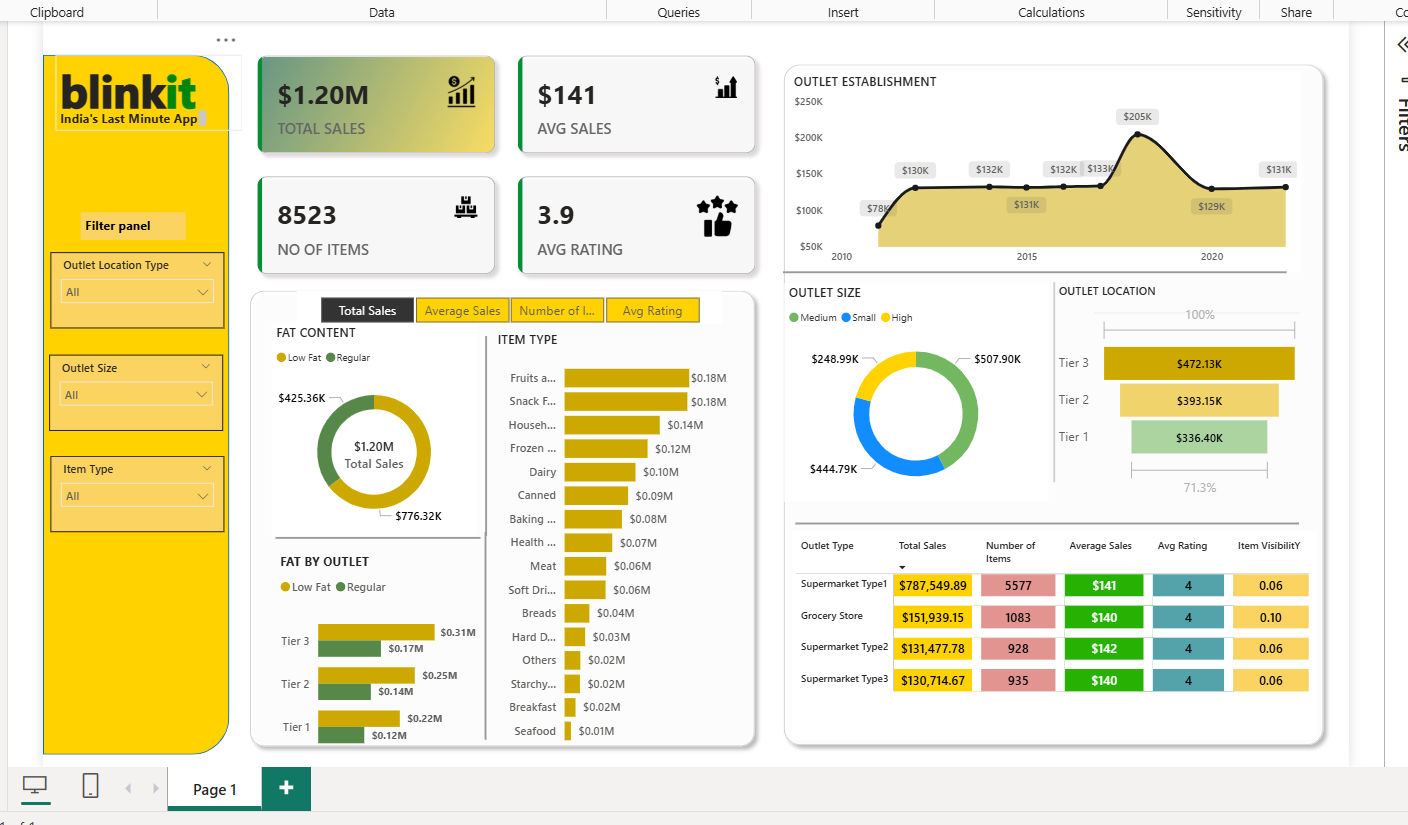

The page's visual inventory and layout, read from the dashboard file:
{"tool":"powerbi","page":{"name":"Page 1","canvas":[1400,800],"ordinal":0},"visuals":[{"type":"shape","box":[0,36.2,199.7,750.7],"z":0},{"type":"textbox","box":[13.4,36.2,199.7,81.8],"z":1000},{"type":"textbox","box":[13.4,91.2,166.2,26.8],"z":2000},{"type":"cardVisual","fields":{"Data":["BlinkIT Grocery Data.Total Sales","BlinkIT Grocery Data.Average Sales","BlinkIT Grocery Data.Number of Items","BlinkIT Grocery Data.Avg Rating"]},"box":[213.1,20.1,569.7,269.4],"z":3000},{"type":"shape","box":[213.1,280.2,559,506.7],"z":4000},{"type":"donutChart","title":"FAT CONTENT","fields":{"Y":["BlinkIT Grocery Data.Total Sales"],"Category":["BlinkIT Grocery Data.Item Fat Content"]},"box":[245.3,324.4,219.8,230.6],"z":5000},{"type":"slicer","fields":{"Values":["Metrics.Metrics"]},"box":[272.1,289.5,455.8,34.9],"z":6000},{"type":"cardVisual","fields":{"Data":["BlinkIT Grocery Data.Total Sales"]},"box":[297.6,430.3,115.3,65.7],"z":7000},{"type":"clusteredBarChart","title":"FAT  BY OUTLET","fields":{"Y":["BlinkIT Grocery Data.Total Sales"],"Category":["BlinkIT Grocery Data.Outlet Location Type"],"Series":["BlinkIT Grocery Data.Item Fat Content"]},"box":[249.3,569.7,219.8,230.6],"z":8000},{"type":"shape","box":[469.2,337.8,12.1,214.5],"z":9000},{"type":"shape","box":[1127.4,307,219.8,12.1],"z":10000},{"type":"shape","box":[466.5,548.3,16.1,222.5],"z":11000},{"type":"barChart","title":"ITEM TYPE","fields":{"Y":["BlinkIT Grocery Data.Total Sales"],"Category":["BlinkIT Grocery Data.Item Type"]},"box":[482.6,332.4,256,454.4],"z":12000},{"type":"shape","box":[785.5,37.5,596.5,748],"z":13000},{"type":"lineChart","title":"OUTLET ESTABLISHMENT","fields":{"Y":["BlinkIT Grocery Data.Total Sales"],"Category":["BlinkIT Grocery Data.Outlet Establishment Year"]},"box":[800.3,55,549.6,214.5],"z":14000},{"type":"shape","box":[807,529.5,540.2,18.8],"z":15000},{"type":"shape","box":[249.3,548.3,219.8,12.1],"z":16000},{"type":"donutChart","title":"OUTLET SIZE","fields":{"Y":["BlinkIT Grocery Data.Total Sales"],"Category":["BlinkIT Grocery Data.Outlet Size"]},"box":[794.9,281.5,282.8,234.6],"z":17000},{"type":"shape","box":[986.6,280.2,195.7,214.5],"z":18000},{"type":"funnel","title":"OUTLET LOCATION","fields":{"Y":["BlinkIT Grocery Data.Total Sales"],"Category":["BlinkIT Grocery Data.Outlet Location Type"]},"box":[1084.5,281.5,268.1,234.6],"z":19000},{"type":"shape","box":[793.6,260.1,540.2,18.8],"z":20000},{"type":"pivotTable","fields":{"Rows":["BlinkIT Grocery Data.Outlet Type"],"Values":["BlinkIT Grocery Data.Total Sales","BlinkIT Grocery Data.Number of Items","BlinkIT Grocery Data.Average Sales","BlinkIT Grocery Data.Avg Rating","Avg(BlinkIT Grocery Data.Item Visibility)"]},"box":[803,546.9,564.3,223.9],"z":21000},{"type":"slicer","fields":{"Values":["BlinkIT Grocery Data.Outlet Location Type"]},"box":[8,248,186.3,81.8],"z":22000},{"type":"slicer","fields":{"Values":["BlinkIT Grocery Data.Outlet Size"]},"box":[6.7,357.9,186.3,81.8],"z":23000},{"type":"slicer","fields":{"Values":["BlinkIT Grocery Data.Item Type"]},"box":[8,466.5,186.3,81.8],"z":24000},{"type":"textbox","box":[40.2,205.1,112.6,29.5],"z":25000}]}

Visuals, with their boxes on the page's 1400x800 design canvas (x1, y1, x2, y2). These are canvas units, not pixel positions in the 1408x825 screenshot, which may show the page scaled, cropped or inside an application window:
shape: [x1=0, y1=36, x2=200, y2=787]
textbox: [x1=13, y1=36, x2=213, y2=118]
textbox: [x1=13, y1=91, x2=180, y2=118]
cardVisual - BlinkIT Grocery Data.Total Sales x BlinkIT Grocery Data.Average Sales: [x1=213, y1=20, x2=783, y2=290]
shape: [x1=213, y1=280, x2=772, y2=787]
"FAT CONTENT" donutChart: [x1=245, y1=324, x2=465, y2=555]
slicer - Metrics.Metrics: [x1=272, y1=290, x2=728, y2=324]
cardVisual - BlinkIT Grocery Data.Total Sales: [x1=298, y1=430, x2=413, y2=496]
"FAT  BY OUTLET" clusteredBarChart: [x1=249, y1=570, x2=469, y2=800]
shape: [x1=469, y1=338, x2=481, y2=552]
shape: [x1=1127, y1=307, x2=1347, y2=319]
shape: [x1=466, y1=548, x2=483, y2=771]
"ITEM TYPE" barChart: [x1=483, y1=332, x2=739, y2=787]
shape: [x1=786, y1=38, x2=1382, y2=786]
"OUTLET ESTABLISHMENT" lineChart: [x1=800, y1=55, x2=1350, y2=270]
shape: [x1=807, y1=530, x2=1347, y2=548]
shape: [x1=249, y1=548, x2=469, y2=560]
"OUTLET SIZE" donutChart: [x1=795, y1=282, x2=1078, y2=516]
shape: [x1=987, y1=280, x2=1182, y2=495]
"OUTLET LOCATION" funnel: [x1=1084, y1=282, x2=1353, y2=516]
shape: [x1=794, y1=260, x2=1334, y2=279]
pivotTable - BlinkIT Grocery Data.Outlet Type x BlinkIT Grocery Data.Total Sales: [x1=803, y1=547, x2=1367, y2=771]
slicer - BlinkIT Grocery Data.Outlet Location Type: [x1=8, y1=248, x2=194, y2=330]
slicer - BlinkIT Grocery Data.Outlet Size: [x1=7, y1=358, x2=193, y2=440]
slicer - BlinkIT Grocery Data.Item Type: [x1=8, y1=466, x2=194, y2=548]
textbox: [x1=40, y1=205, x2=153, y2=235]
